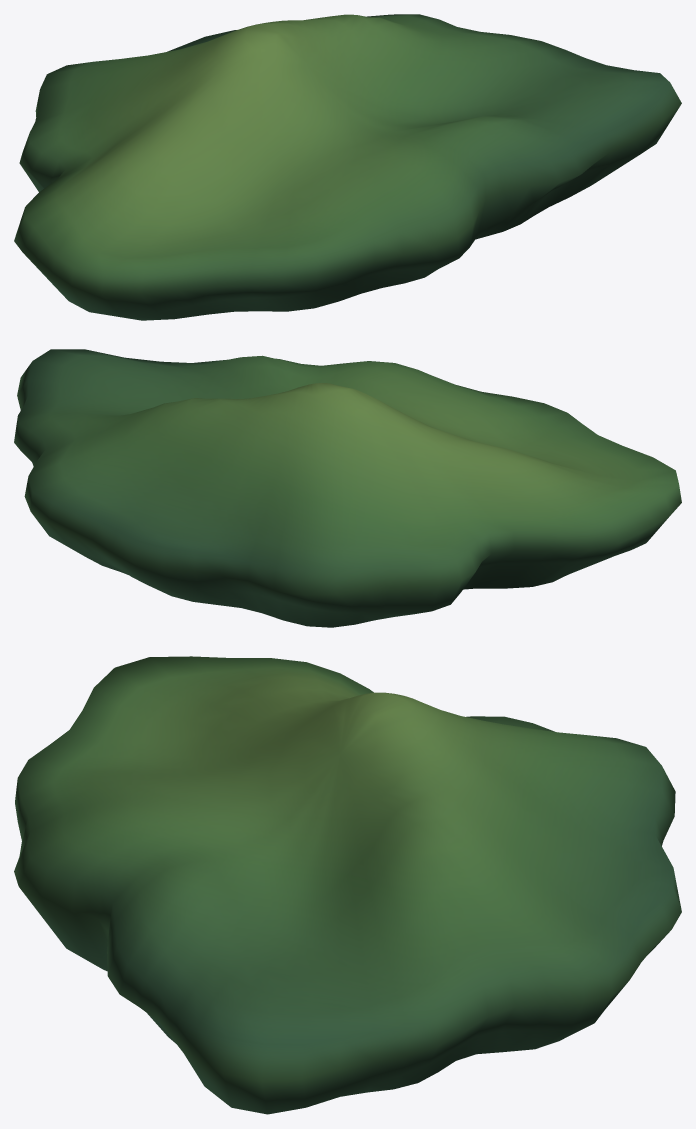
The model's file is ForestIsland_A.fbx.
3 renders of one model, top to bottom at view 1: azimuth 30°, elevation 25°; view 2: azimuth 150°, elevation 25°; view 3: azimuth 270°, elevation 25°, orthographic. The views are drawn at different scales.
Visible parts, largest first — view 1: ForestIsland_A; view 2: ForestIsland_A; view 3: ForestIsland_A.
Boxes of the visible parts, box(x1,y1,x2,y2) form: ForestIsland_A: box(14, 14, 681, 320); ForestIsland_A: box(14, 349, 681, 627); ForestIsland_A: box(14, 656, 681, 1114).
Bounding box in the file's own units: 2661 × 678 × 1832.
Materials: 1 (1 with a texture image).
